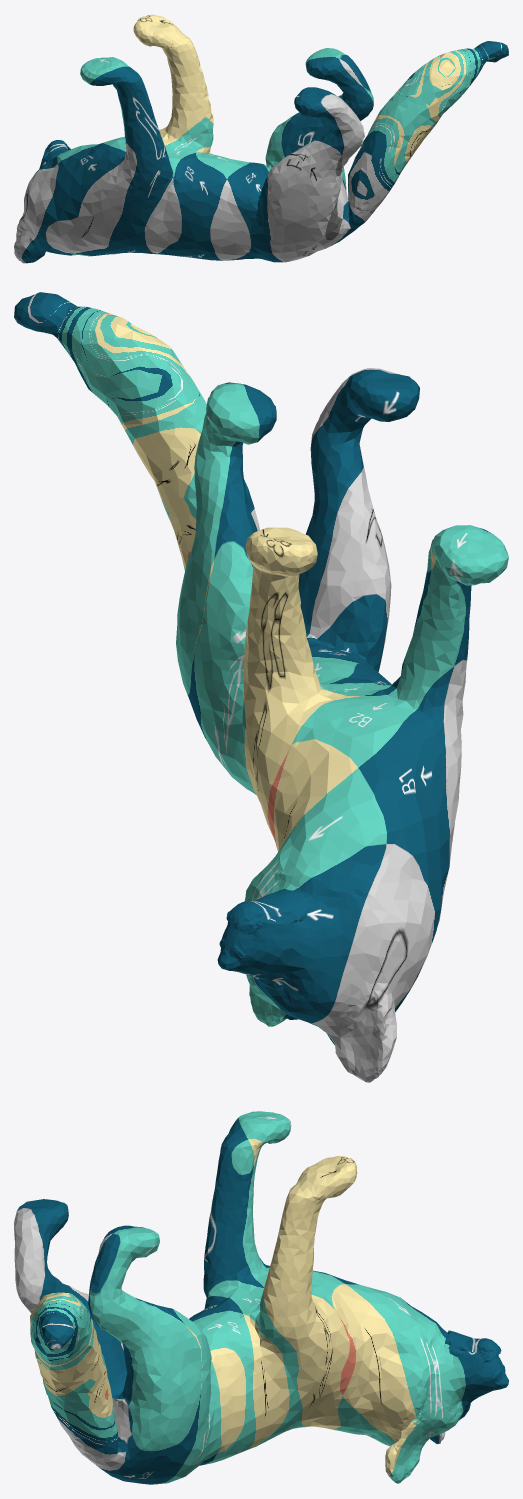
Rendered from lion_02-fox_02.obj.
The picture shows the model from 3 angles, top to bottom: view 1: azimuth 30°, elevation 25°; view 2: azimuth 150°, elevation 25°; view 3: azimuth 270°, elevation 25°; orthographic projection. The views are drawn at different scales.
Parts seen in each view (by area): view 1: lion_02-fox_02_export; view 2: lion_02-fox_02_export; view 3: lion_02-fox_02_export.
Part boxes in pixels (x1,y1,x2,y2): lion_02-fox_02_export: [14, 14, 508, 263]; lion_02-fox_02_export: [14, 292, 508, 1082]; lion_02-fox_02_export: [14, 1111, 508, 1484].
Size of the model in its own units: 0.8388 by 0.575 by 0.768.
